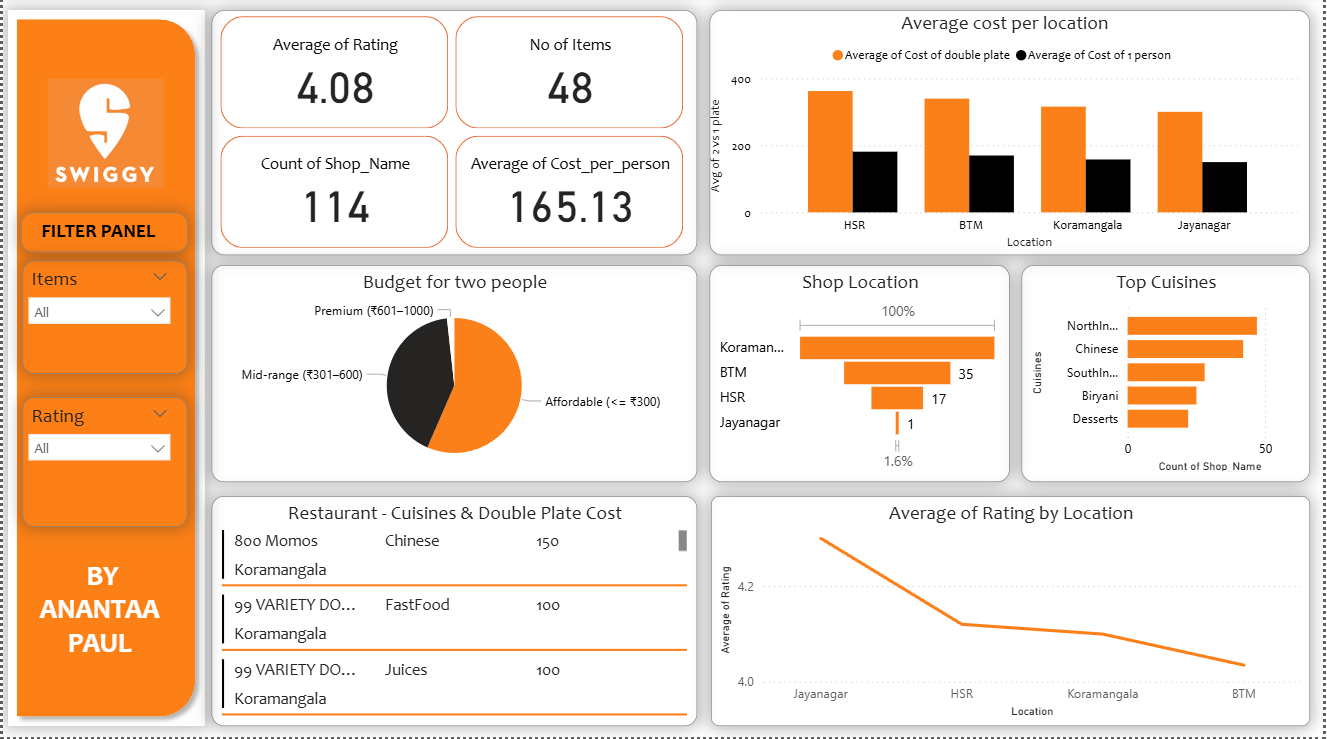

This screenshot's page, from the dashboard's own definition file:
{"tool":"powerbi","page":{"name":"Swiggy_Dashboard","canvas":[1280,720],"ordinal":0},"visuals":[{"type":"shape","box":[4.9,14.6,191.1,694.6],"z":0,"group":"g1"},{"type":"funnel","title":"Shop Location","fields":{"Y":["Count(Processed_data.Shop_Name)"],"Category":["Processed_data.Location"]},"box":[684.9,262.3,291.5,210.5],"z":0},{"type":"image","box":[38.9,68,123.1,131.2],"z":1000,"group":"g1"},{"type":"lineChart","fields":{"Y":["Avg(Processed_data.Rating)"],"Category":["Processed_data.Location"]},"box":[686.6,485.8,581.3,223.5],"z":1000},{"type":"clusteredColumnChart","title":"Average cost per location","fields":{"Y":["Avg(Processed_data.Cost_for_Two)","Avg(Processed_data.Cost_per_person)"],"Category":["Processed_data.Location"]},"box":[684.9,14.6,582.9,238],"z":2000},{"type":"slicer","fields":{"Values":["Processed_data.Cuisines"]},"box":[19.5,257.5,160.3,110.1],"z":2000,"group":"g1"},{"type":"barChart","title":"Top Cuisines","fields":{"Category":["Processed_data.Cuisines"],"Y":["Count(Processed_data.Shop_Name)"]},"box":[987.7,262.3,280.1,210.5],"z":3000},{"type":"slicer","fields":{"Values":["Processed_data.Rating"]},"box":[19.5,390.3,160.3,126.3],"z":3000,"group":"g1"},{"type":"textbox","box":[19.5,540.8,160.3,136],"z":4000,"group":"g1"},{"type":"textbox","box":[17.9,210.5,161.9,38.9],"z":5000,"group":"g1"},{"type":"multiRowCard","title":"Restaurant - Cuisines & Double Plate Cost","fields":{"Values":["Processed_data.Shop_Name","Processed_data.Cuisines","Processed_data.Cost_for_Two","Processed_data.Location"]},"box":[202.4,485.8,471.2,223.5],"z":5000},{"type":"cardVisual","fields":{"Data":["Avg(Processed_data.Rating)","Processed_data.No of Items","Count(Processed_data.Shop_Name)","Avg(Processed_data.Cost_per_person)"]},"box":[202.4,14.6,471.2,238],"z":6000},{"type":"group","id":"g1","title":"Group 1","box":[4.9,14.6,191.1,694.6],"z":7000},{"type":"pieChart","title":"Budget for two people","fields":{"Category":["Processed_data.Cost_Range"],"Y":["Count(Processed_data.Shop_Name)"]},"box":[202.4,262.3,471.2,210.5],"z":8000}]}

Visuals, with their boxes in screenshot pixels (x1, y1, x2, y2), scaled from the page's 1280x720 canvas onto the 1327x739 screenshot:
shape: locate(5, 15, 203, 728)
"Shop Location" funnel: locate(710, 269, 1012, 485)
image: locate(40, 70, 168, 204)
lineChart - Avg(Processed_data.Rating) x Processed_data.Location: locate(712, 499, 1314, 728)
"Average cost per location" clusteredColumnChart: locate(710, 15, 1314, 259)
slicer - Processed_data.Cuisines: locate(20, 264, 186, 377)
"Top Cuisines" barChart: locate(1024, 269, 1314, 485)
slicer - Processed_data.Rating: locate(20, 401, 186, 530)
textbox: locate(20, 555, 186, 695)
textbox: locate(19, 216, 186, 256)
"Restaurant - Cuisines & Double Plate Cost" multiRowCard: locate(210, 499, 698, 728)
cardVisual - Avg(Processed_data.Rating) x Processed_data.No of Items: locate(210, 15, 698, 259)
"Group 1" group: locate(5, 15, 203, 728)
"Budget for two people" pieChart: locate(210, 269, 698, 485)
